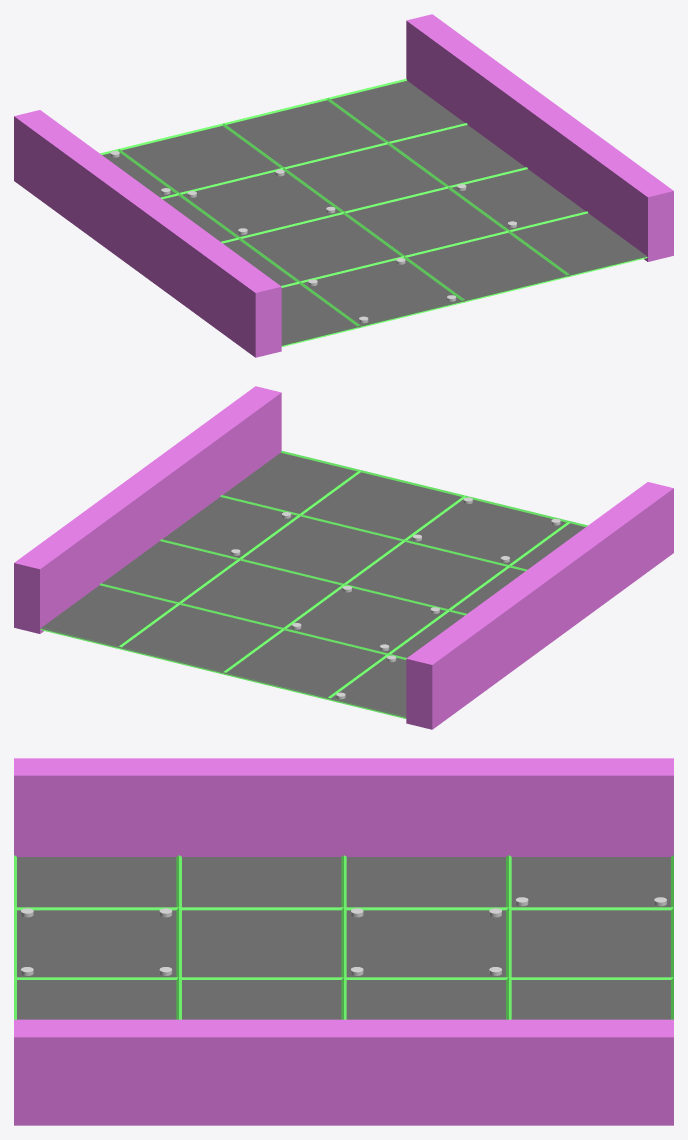
Rendered from StraightCell.fbx.
3 renders of one model, top to bottom at view 1: azimuth 30°, elevation 25°; view 2: azimuth 150°, elevation 25°; view 3: azimuth 270°, elevation 25°, orthographic. The views are drawn at different scales.
Parts seen in each view (by area): view 1: Base.002, Cube.002, Rim.002, Cylinder.002; view 2: Base.002, Cube.002, Rim.002, Cylinder.002; view 3: Cube.002, Base.002, Rim.002, Cylinder.002.
Part boxes in pixels (box(x1,y1,x2,y2)): Base.002: box(102, 80, 647, 345); Cube.002: box(14, 14, 673, 357); Rim.002: box(100, 79, 647, 346); Cylinder.002: box(110, 151, 516, 323); Base.002: box(40, 452, 585, 717); Cube.002: box(14, 386, 673, 729); Rim.002: box(40, 451, 587, 718); Cylinder.002: box(231, 497, 560, 699); Cube.002: box(14, 758, 673, 1125); Base.002: box(17, 857, 670, 1019); Rim.002: box(14, 855, 673, 1019); Cylinder.002: box(21, 897, 666, 975).
Size of the model in its own units: 100 by 14.8 by 100.
